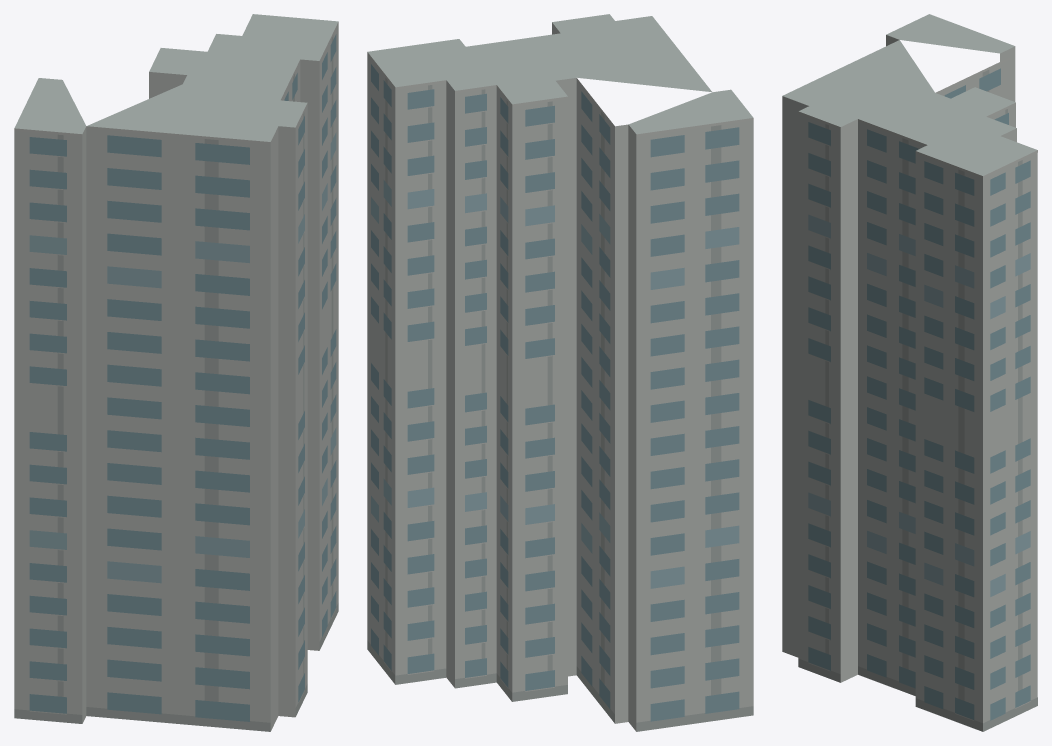
File: residential-f1fb0305-d1eb-40c6-bbd8-22a1fef0dcb3.glb
3 views of the same model, side by side, from view 1: azimuth 30°, elevation 25°; view 2: azimuth 150°, elevation 25°; view 3: azimuth 270°, elevation 25° (orthographic). The views are drawn at different scales.
Parts seen in each view (by area): view 1: residential-f1fb0305-d1eb-40c6-bbd8-22a1fef0dcb3.tmp; view 2: residential-f1fb0305-d1eb-40c6-bbd8-22a1fef0dcb3.tmp; view 3: residential-f1fb0305-d1eb-40c6-bbd8-22a1fef0dcb3.tmp.
Boxes of the visible parts, box(x1,y1,x2,y2) form: residential-f1fb0305-d1eb-40c6-bbd8-22a1fef0dcb3.tmp: box(14, 14, 338, 731); residential-f1fb0305-d1eb-40c6-bbd8-22a1fef0dcb3.tmp: box(367, 14, 753, 731); residential-f1fb0305-d1eb-40c6-bbd8-22a1fef0dcb3.tmp: box(782, 14, 1037, 731).
Bounding box in the file's own units: 34.37 × 54.9 × 22.9.
